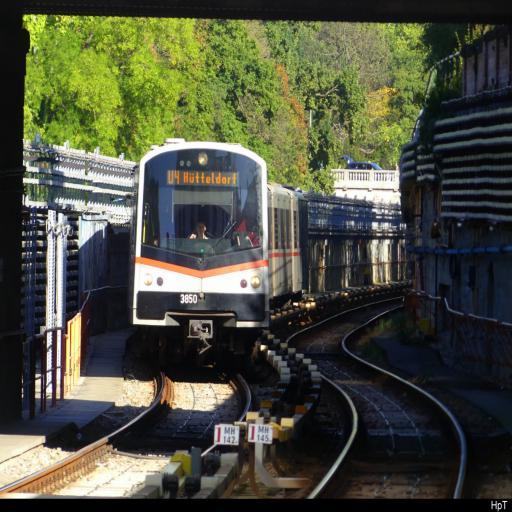V-Wagen: (129, 139, 310, 367)
